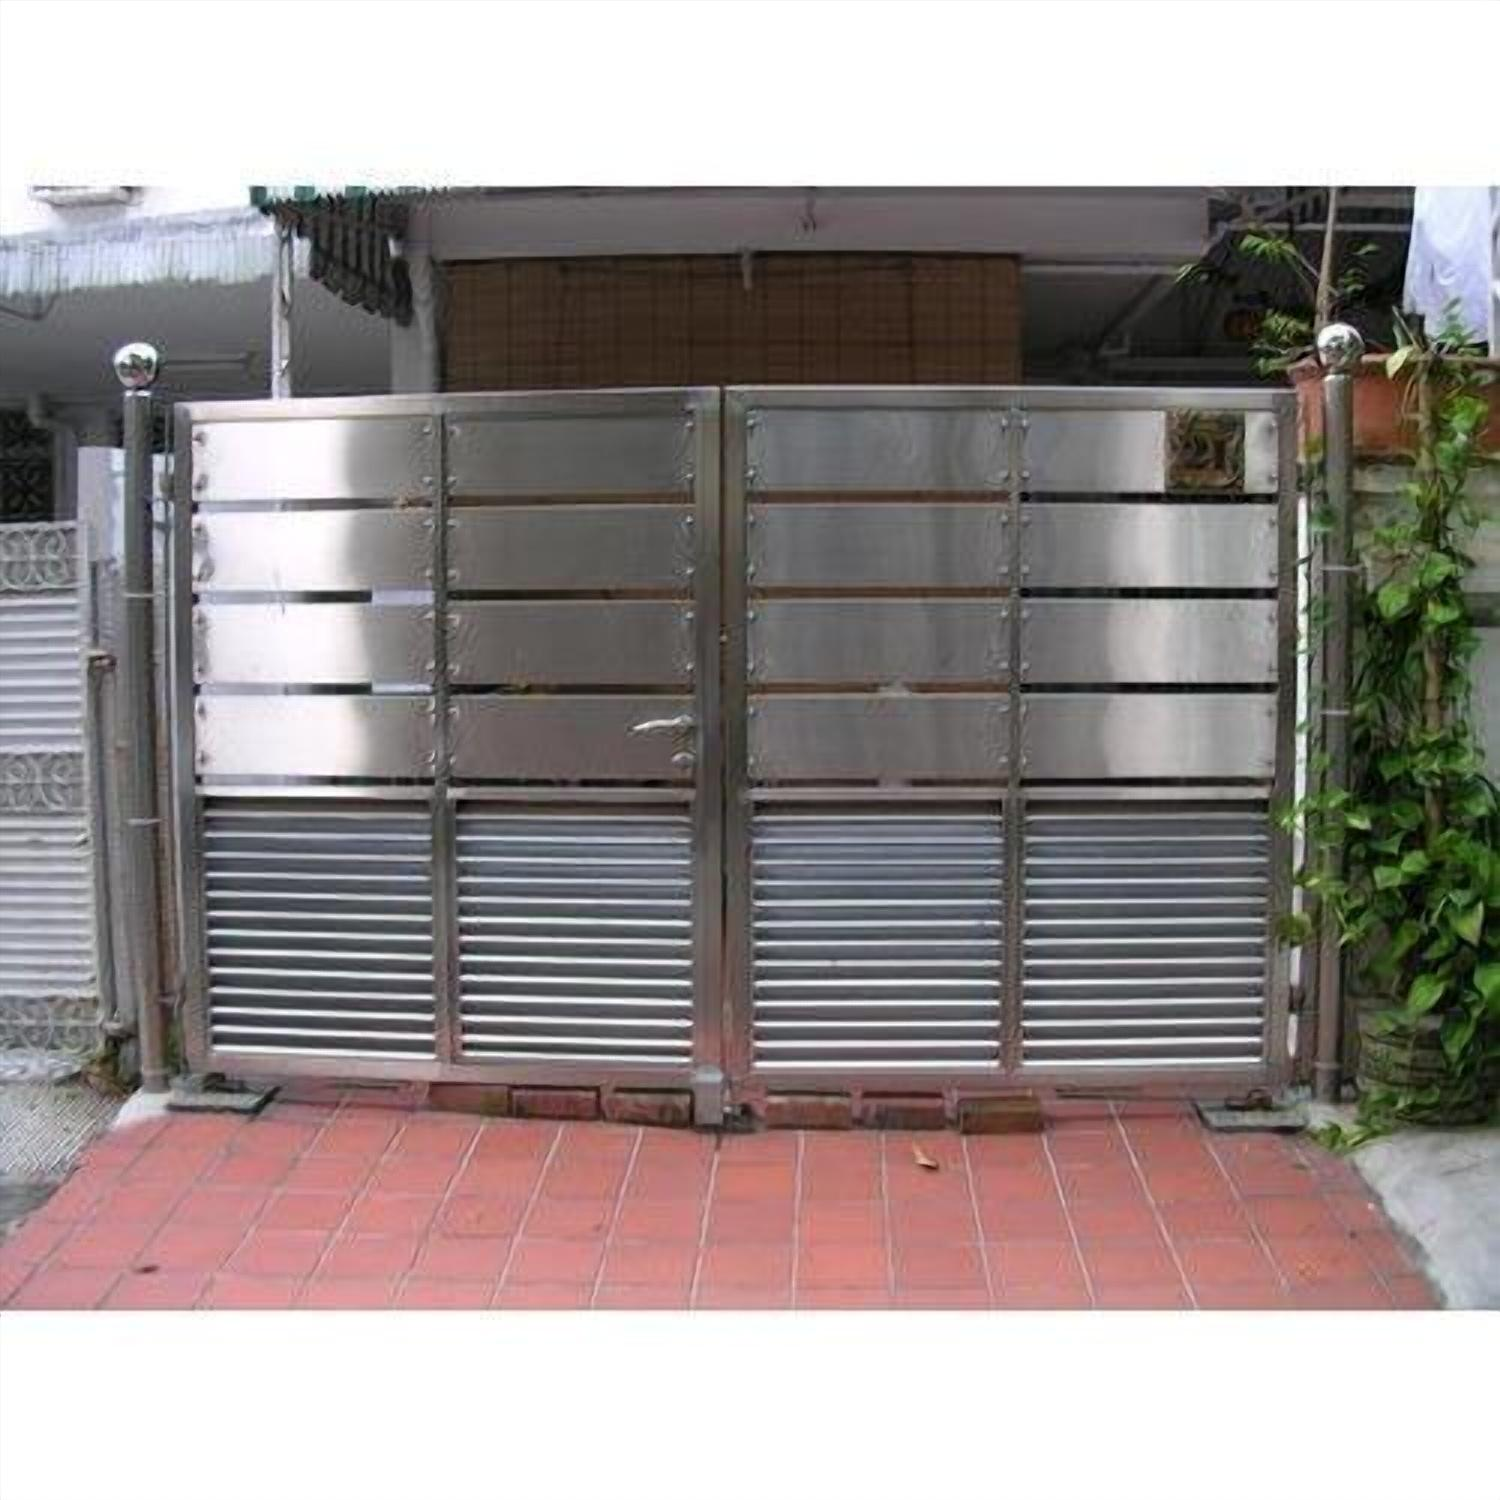Gate: (163, 386, 1316, 1135)
Window-with-grill: (0, 398, 52, 525)
